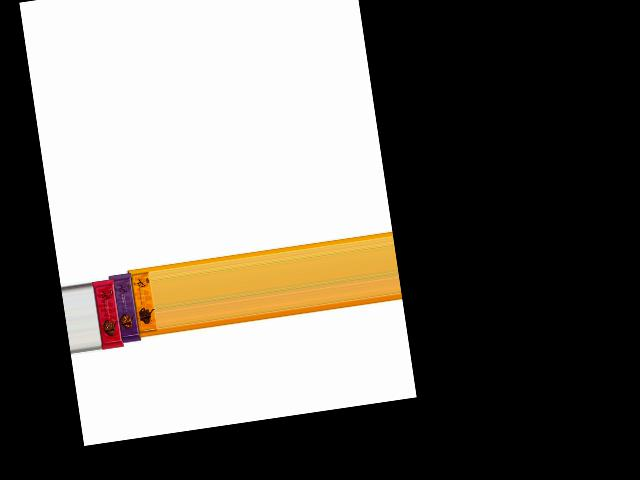chocolate: (90, 275, 123, 354)
